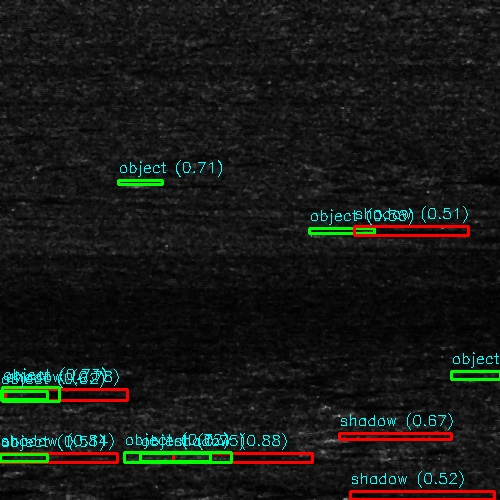rock: (129, 452, 222, 463), (0, 390, 33, 403), (139, 181, 180, 186), (355, 227, 386, 230), (0, 457, 12, 462)
shadow: (176, 452, 315, 463), (0, 390, 85, 403), (0, 457, 110, 462), (160, 181, 251, 186), (371, 227, 470, 230)
